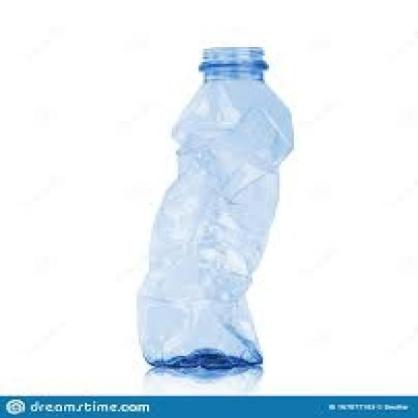bottle: (132, 35, 306, 376)
